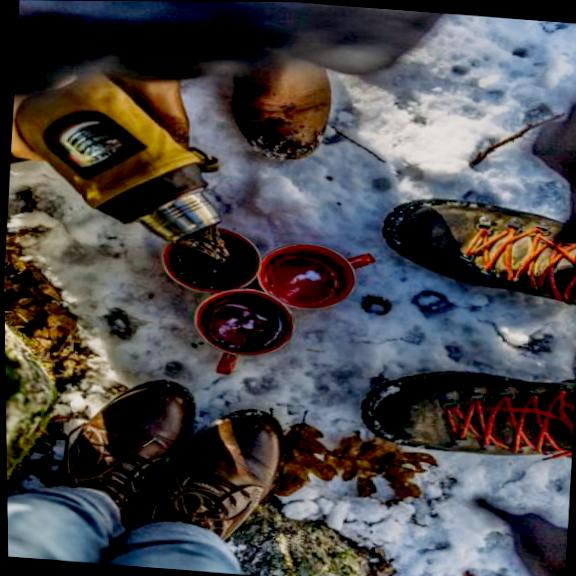safety_vest: (379, 192, 576, 305), (359, 363, 576, 462), (54, 372, 200, 511), (142, 400, 288, 538), (230, 59, 337, 163)
